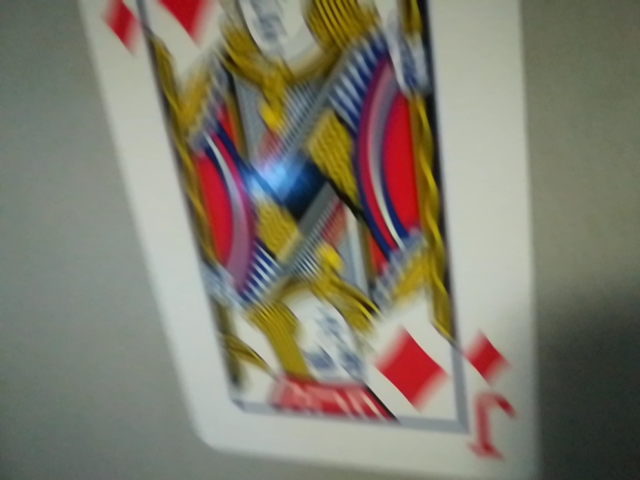fk j: (453, 328, 533, 475)
